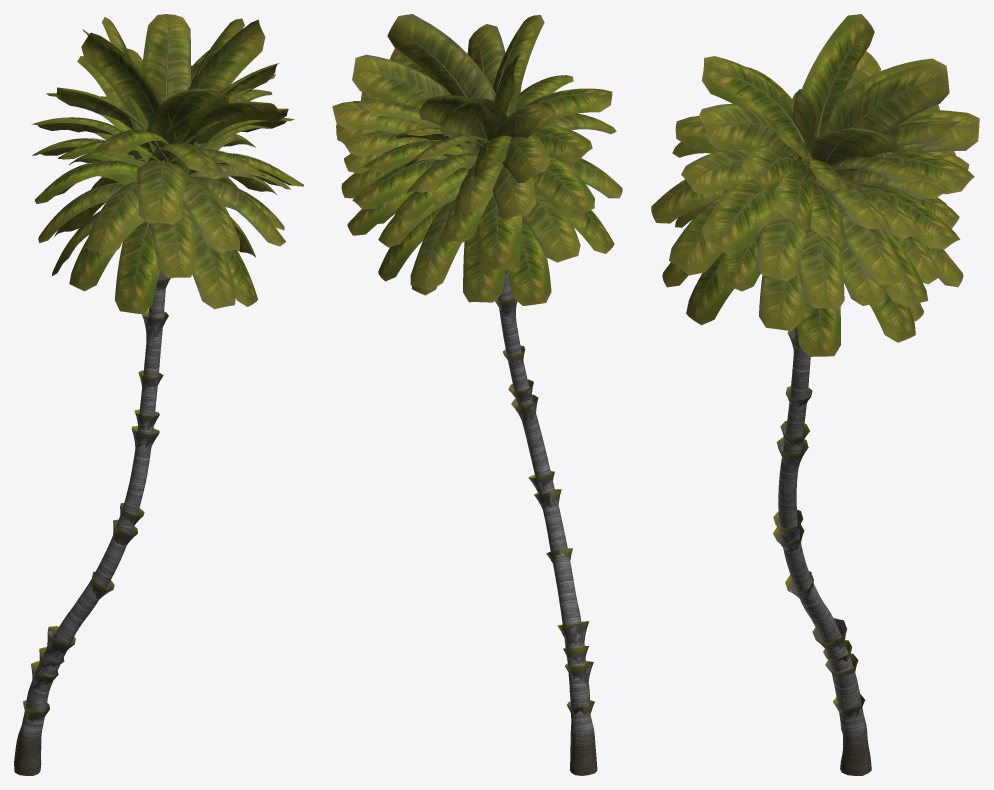
Rendered from ti_palm.glb.
The picture shows the model from 3 angles, left to right: view 1: azimuth 30°, elevation 25°; view 2: azimuth 150°, elevation 25°; view 3: azimuth 270°, elevation 25°; orthographic projection. The views are drawn at different scales.
Visible parts, largest first — view 1: KB3D_TIS_Palm_D_Main; view 2: KB3D_TIS_Palm_D_Main; view 3: KB3D_TIS_Palm_D_Main.
Part boxes in pixels (x1,y1,x2,y2): KB3D_TIS_Palm_D_Main: [14, 14, 303, 775]; KB3D_TIS_Palm_D_Main: [332, 14, 622, 775]; KB3D_TIS_Palm_D_Main: [651, 14, 979, 775].
Bounding box in the file's own units: 4.13 × 10.88 × 4.09.
Materials: 1 (1 with a texture image).
